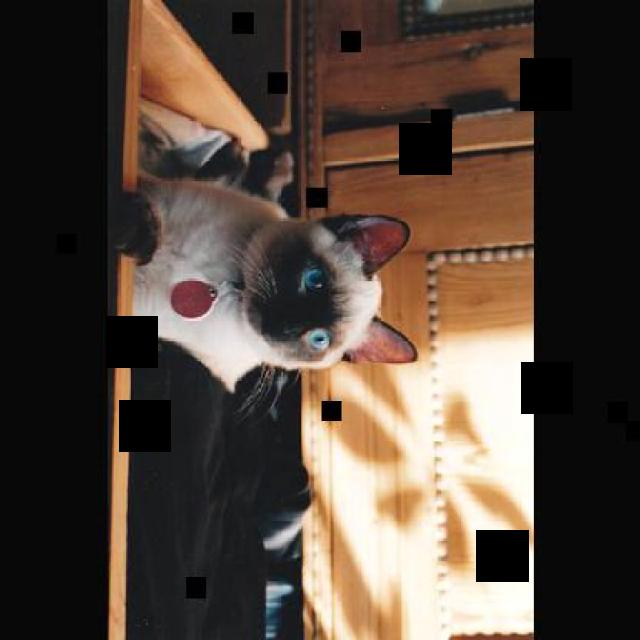unauthorized: (114, 157, 418, 426)
